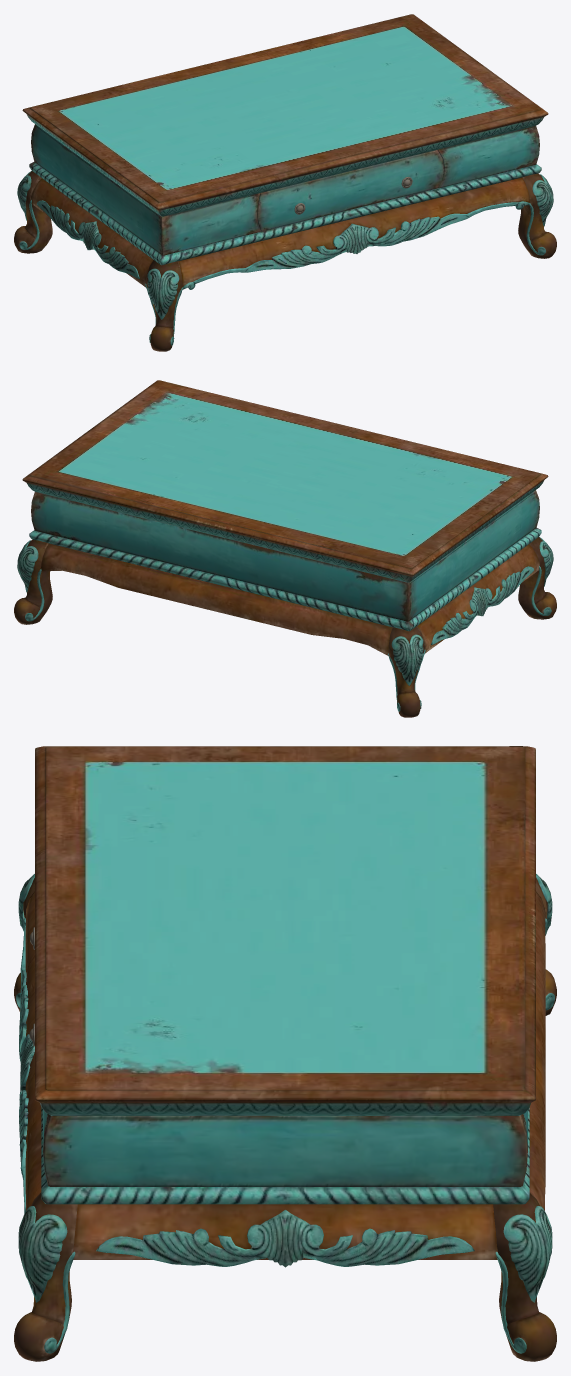
The model's file is CoffeeTable_01.glb.
3 views of the same model, one above another, from view 1: azimuth 30°, elevation 25°; view 2: azimuth 150°, elevation 25°; view 3: azimuth 270°, elevation 25° (orthographic). The views are drawn at different scales.
Parts seen in each view (by area): view 1: CoffeeTable_01; view 2: CoffeeTable_01; view 3: CoffeeTable_01.
Boxes of the visible parts, x1,y1,x2,y2 form: CoffeeTable_01: [14, 14, 556, 351]; CoffeeTable_01: [14, 380, 556, 717]; CoffeeTable_01: [14, 746, 556, 1361].
Size of the model in its own units: 1.54 by 0.5232 by 0.9728.
1 material, 1 textured.
